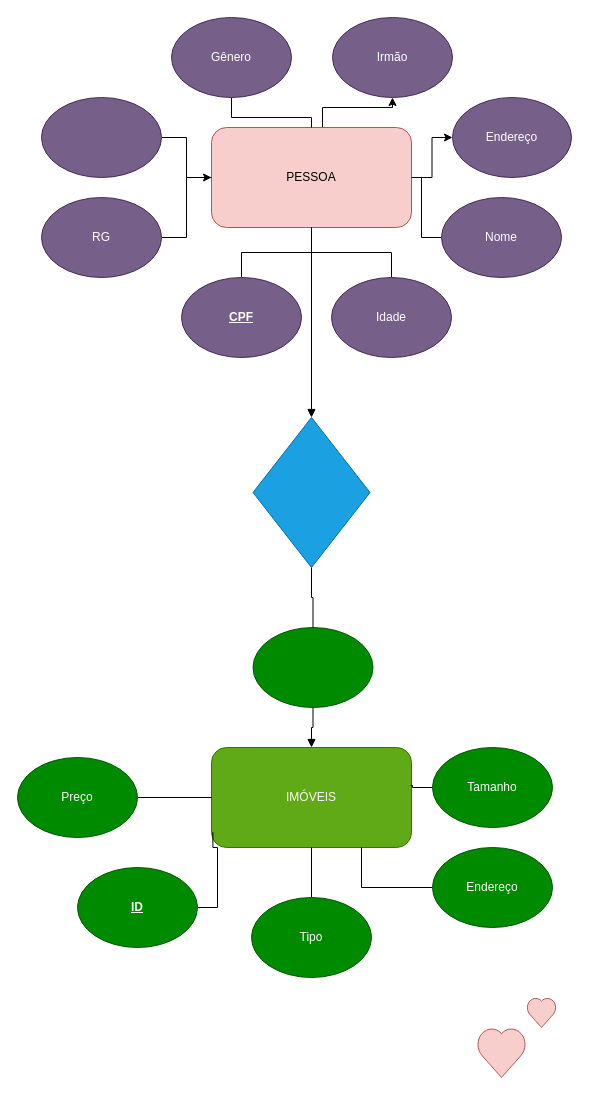
Image size: 589x1095. Some labels were removed from this diagram. The shapes that lost their labels are listed below. From the top down, each one's centre as x and y in pixels, then its label:
point (101, 137): Filiação
point (311, 492): POSSUI
point (312, 667): Cor
